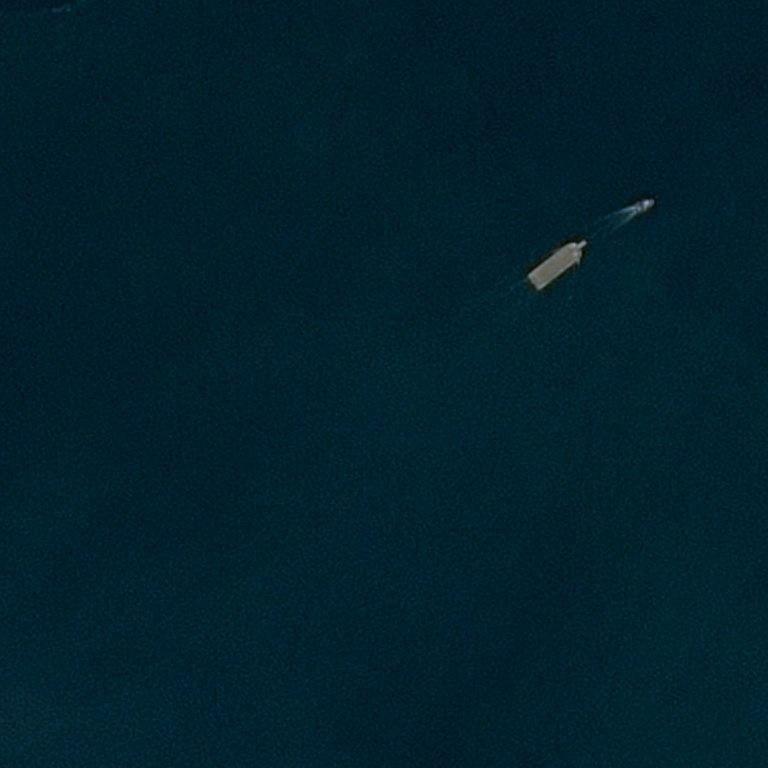ship: (524, 232, 593, 296), (630, 197, 660, 216), (577, 238, 588, 250), (525, 43, 536, 48), (631, 199, 637, 207), (651, 198, 657, 204), (535, 286, 540, 292), (636, 56, 642, 59)
